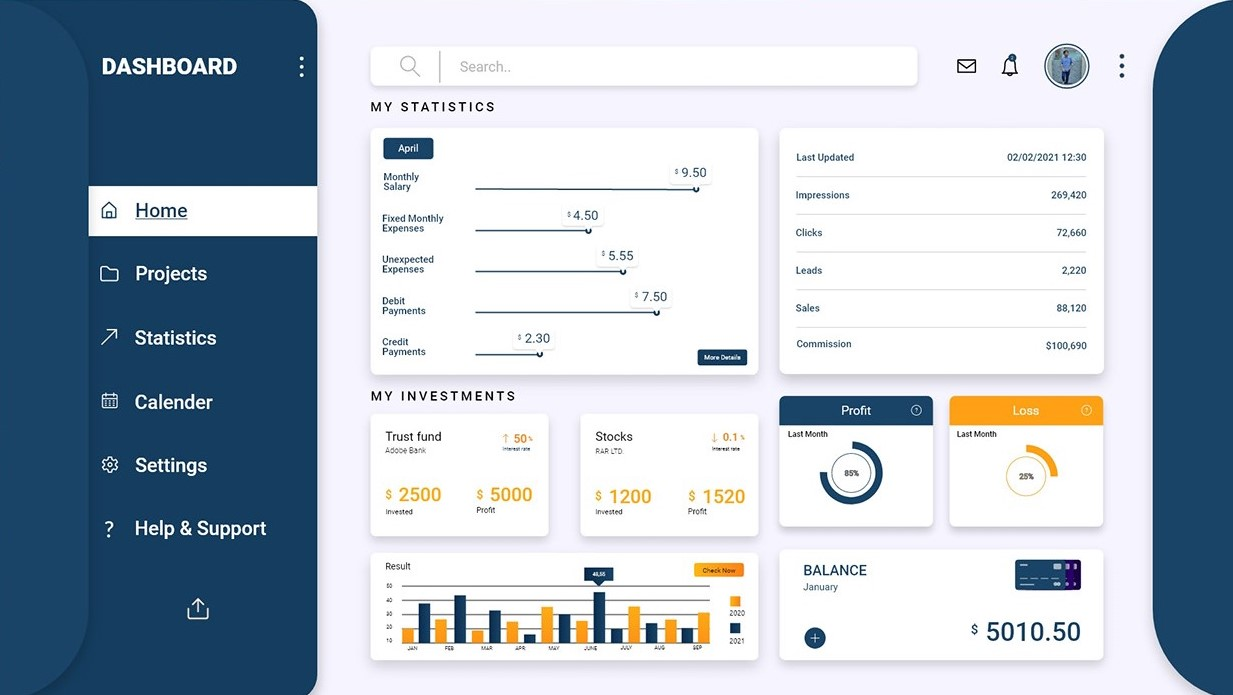block: (1, 1, 319, 694), (778, 550, 1105, 660), (579, 413, 759, 537), (370, 413, 551, 536), (779, 397, 935, 526), (948, 396, 1104, 525), (941, 44, 1135, 90)
button: (697, 348, 749, 366)
chart: (369, 127, 759, 373), (370, 554, 759, 661), (948, 426, 1105, 527), (779, 425, 934, 526)
form: (371, 46, 918, 88)
icon: (179, 593, 220, 627), (391, 50, 428, 82), (949, 50, 983, 84), (93, 385, 129, 416), (94, 256, 127, 289), (94, 320, 128, 352), (93, 449, 128, 480), (93, 513, 128, 544), (997, 50, 1027, 83), (95, 194, 125, 227), (292, 50, 311, 85), (1113, 50, 1131, 82), (804, 627, 826, 648), (1077, 401, 1097, 419), (907, 403, 926, 419)
image: (1153, 1, 1233, 695), (1012, 559, 1082, 591), (1045, 44, 1089, 87)
table: (779, 129, 1105, 373)
